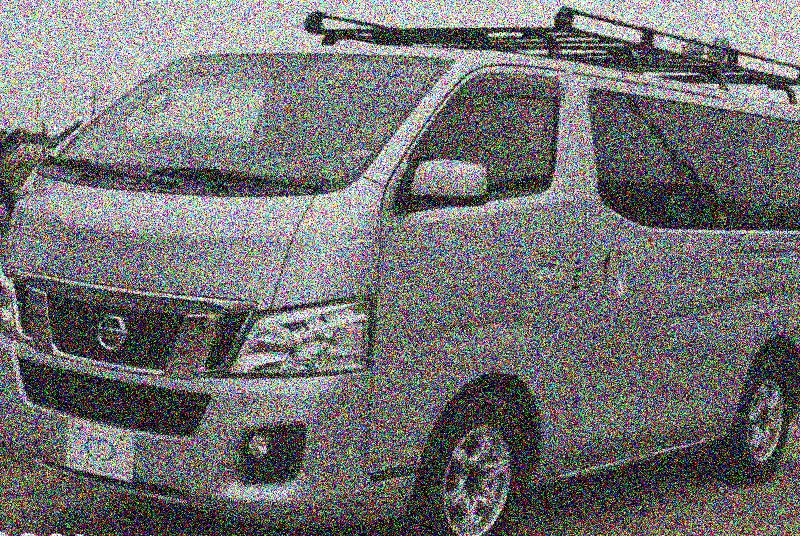van: (0, 37, 800, 536)
